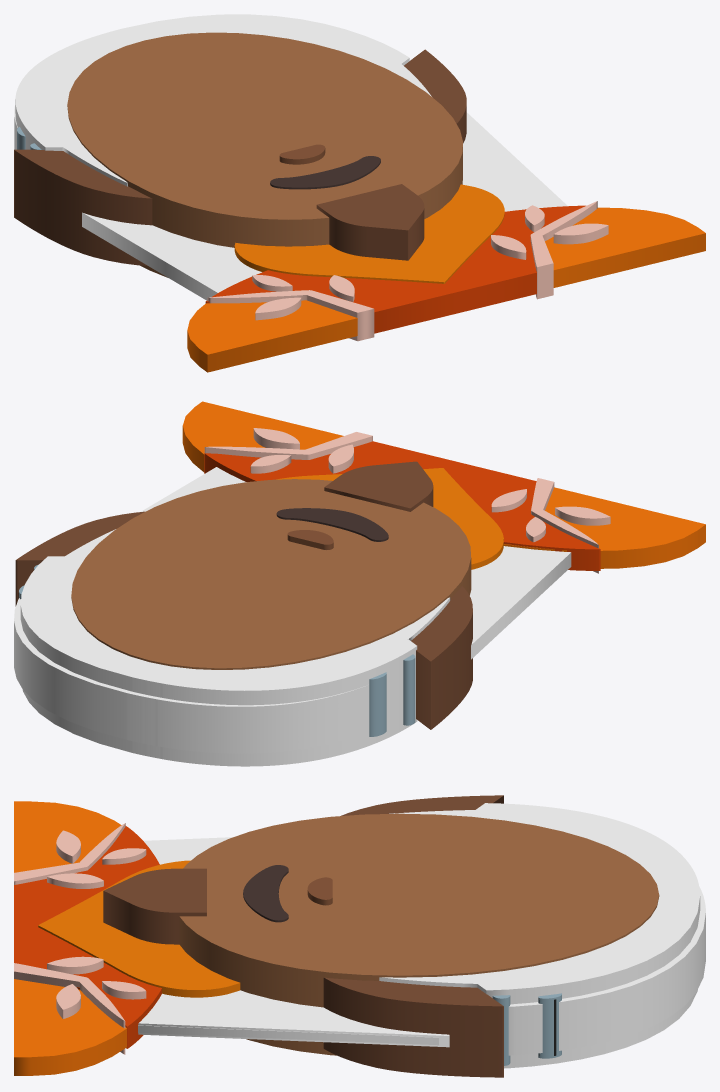
The model's file is emoji_u1f9dd_1f3fe.glb.
3 views of the same model, one above another, from view 1: azimuth 30°, elevation 25°; view 2: azimuth 150°, elevation 25°; view 3: azimuth 270°, elevation 25° (orthographic). The views are drawn at different scales.
Visible parts, largest first — view 1: emoji_u1f9dd_1f3fe; view 2: emoji_u1f9dd_1f3fe; view 3: emoji_u1f9dd_1f3fe.
Boxes of the visible parts, box(x1,y1,x2,y2) form: emoji_u1f9dd_1f3fe: box(14, 14, 705, 372); emoji_u1f9dd_1f3fe: box(14, 401, 705, 766); emoji_u1f9dd_1f3fe: box(14, 795, 705, 1077).
Size of the model in its own units: 0.0292 by 0.005 by 0.0334.
